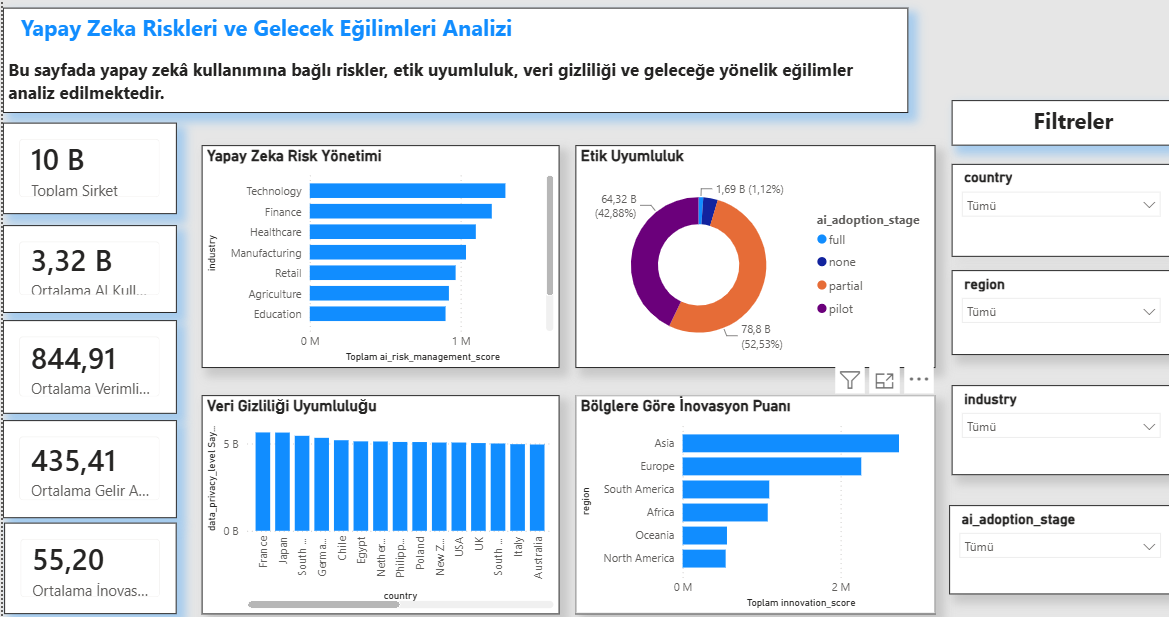

What the dashboard file says about the page in this screenshot:
{"tool":"powerbi","page":{"name":"3. sayfa","canvas":[1280,720],"ordinal":2},"visuals":[{"type":"barChart","title":"Yapay Zeka Risk Yönetimi","fields":{"Category":["ai_company_adoption.industry"],"Y":["Sum(ai_company_adoption.ai_risk_management_score)"]},"box":[217.8,193.2,391.8,243.8],"z":0},{"type":"clusteredColumnChart","title":"Veri Gizliliği Uyumluluğu","fields":{"Category":["ai_company_adoption.country"],"Y":["CountNonNull(ai_company_adoption.data_privacy_level)"]},"box":[217.8,467.1,391.8,239.7],"z":1000},{"type":"donutChart","title":"Etik Uyumluluk","fields":{"Series":["ai_company_adoption.ai_adoption_stage"],"Y":["CountNonNull(ai_company_adoption.ai_ethics_committee)"]},"box":[627.4,193.2,394.5,243.8],"z":2000},{"type":"clusteredBarChart","title":"Bölglere Göre İnovasyon Puanı","fields":{"Category":["ai_company_adoption.region"],"Y":["Sum(ai_company_adoption.innovation_score)"]},"box":[627.4,467.1,394.5,239.7],"z":3000},{"type":"slicer","fields":{"Values":["ai_company_adoption.country"]},"box":[1039.7,213.7,239.7,101.4],"z":4000},{"type":"slicer","fields":{"Values":["ai_company_adoption.region"]},"box":[1039.7,330.1,239.7,93.2],"z":5000},{"type":"slicer","fields":{"Values":["ai_company_adoption.industry"]},"box":[1039.7,456.2,239.7,98.6],"z":6000},{"type":"slicer","fields":{"Values":["ai_company_adoption.ai_adoption_stage"]},"box":[1037,587.7,242.5,97.3],"z":7000},{"type":"textbox","box":[0,42.5,991.8,115.1],"z":8000},{"type":"textbox","box":[1039.7,143.8,239.7,49.3],"z":9000},{"type":"cardVisual","fields":{"Data":["ai_company_adoption.Toplam Şirket"]},"box":[0,168.5,190.4,100],"z":9001},{"type":"cardVisual","fields":{"Data":["ai_company_adoption.Ortalama AI Kullanımı"]},"box":[0,280.8,190.4,95.9],"z":9003},{"type":"cardVisual","fields":{"Data":["ai_company_adoption.Ortalama Verimlilik"]},"box":[0,384.9,190.4,102.7],"z":9004},{"type":"cardVisual","fields":{"Data":["ai_company_adoption.Ortalama Gelir Artışı"]},"box":[0,494.5,190.4,106.8],"z":9005},{"type":"cardVisual","fields":{"Data":["ai_company_adoption.Ortalama İnovasyon"]},"box":[1.4,606.8,189,100],"z":9006}]}

Visuals, with their boxes on the page's 1280x720 design canvas (x1, y1, x2, y2). These are canvas units, not pixel positions in the 1169x617 screenshot, which may show the page scaled, cropped or inside an application window:
"Yapay Zeka Risk Yönetimi" barChart: l=218, t=193, r=610, b=437
"Veri Gizliliği Uyumluluğu" clusteredColumnChart: l=218, t=467, r=610, b=707
"Etik Uyumluluk" donutChart: l=627, t=193, r=1022, b=437
"Bölglere Göre İnovasyon Puanı" clusteredBarChart: l=627, t=467, r=1022, b=707
slicer - ai_company_adoption.country: l=1040, t=214, r=1279, b=315
slicer - ai_company_adoption.region: l=1040, t=330, r=1279, b=423
slicer - ai_company_adoption.industry: l=1040, t=456, r=1279, b=555
slicer - ai_company_adoption.ai_adoption_stage: l=1037, t=588, r=1280, b=685
textbox: l=0, t=42, r=992, b=158
textbox: l=1040, t=144, r=1279, b=193
cardVisual - ai_company_adoption.Toplam Şirket: l=0, t=168, r=190, b=268
cardVisual - ai_company_adoption.Ortalama AI Kullanımı: l=0, t=281, r=190, b=377
cardVisual - ai_company_adoption.Ortalama Verimlilik: l=0, t=385, r=190, b=488
cardVisual - ai_company_adoption.Ortalama Gelir Artışı: l=0, t=494, r=190, b=601
cardVisual - ai_company_adoption.Ortalama İnovasyon: l=1, t=607, r=190, b=707
